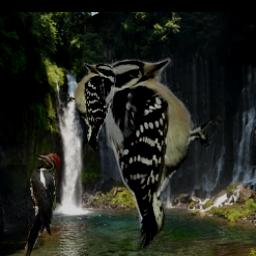Woodpecker: (99, 56, 223, 252), (60, 61, 117, 152), (25, 153, 60, 256)
